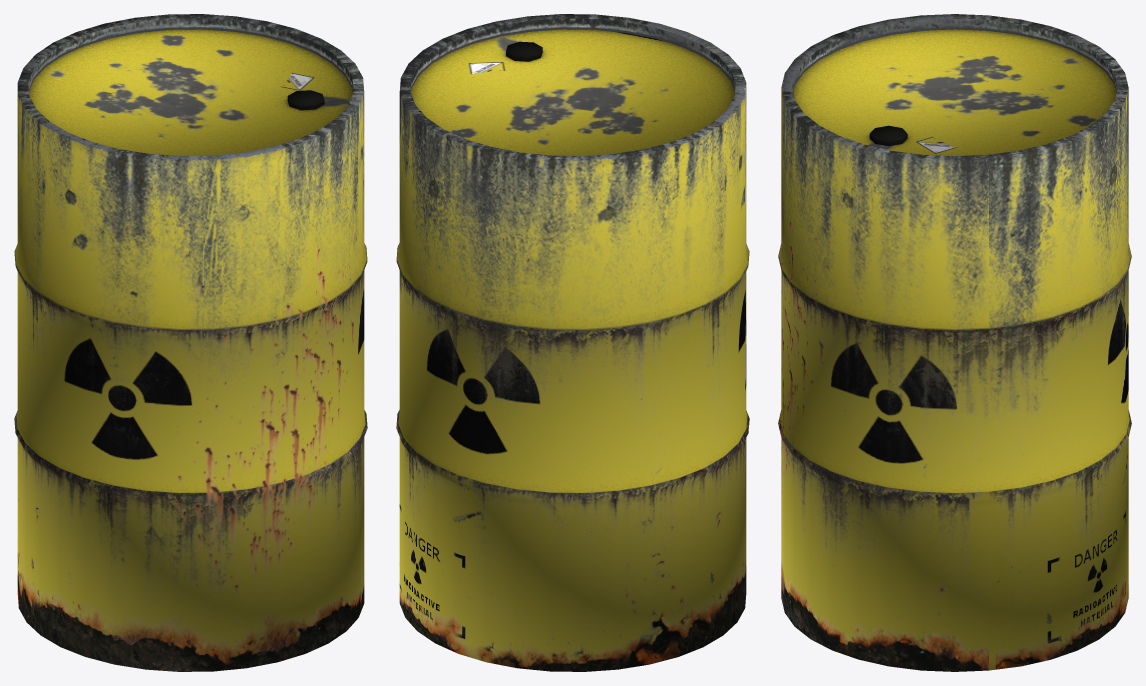
File: OilBarrel.glb
3 views of the same model, side by side, from view 1: azimuth 30°, elevation 25°; view 2: azimuth 150°, elevation 25°; view 3: azimuth 270°, elevation 25° (orthographic).
Visible parts, largest first — view 1: Cylinder; view 2: Cylinder; view 3: Cylinder.
Boxes of the visible parts, box(x1,y1,x2,y2) form: Cylinder: box(14, 14, 367, 671); Cylinder: box(396, 14, 749, 671); Cylinder: box(778, 14, 1131, 671).
Size of the model in its own units: 7.32 by 11.66 by 7.32.
1 material, 1 textured.
